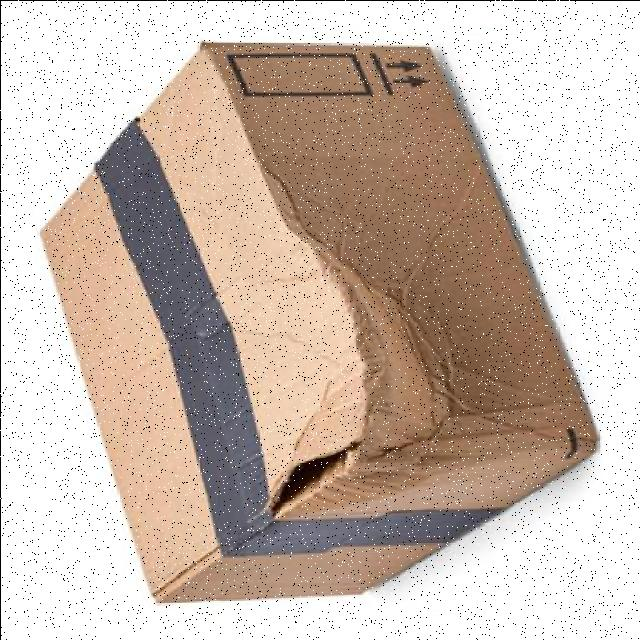defect: (34, 35, 604, 608)
